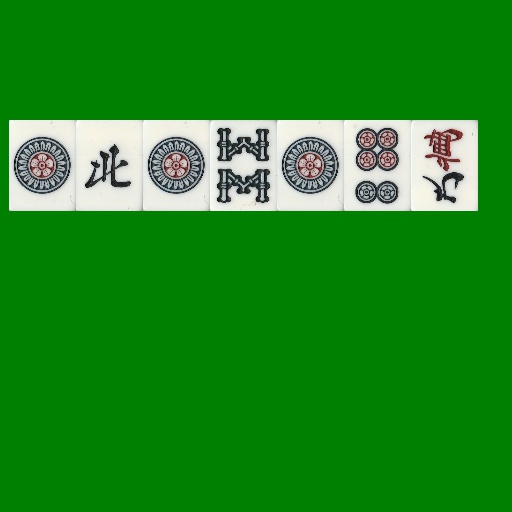1p: (9, 120, 76, 211), (143, 120, 210, 211), (277, 120, 344, 211)
6p: (344, 120, 411, 211)
8s: (210, 120, 277, 211)
9m: (411, 120, 478, 211)
north: (76, 120, 143, 211)
